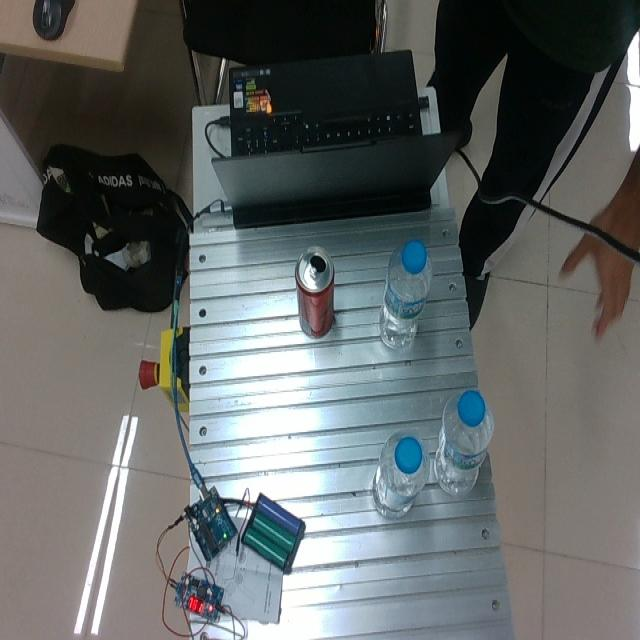coca: (294, 244, 335, 339)
lavie: (433, 391, 494, 496), (378, 238, 432, 350), (371, 430, 428, 518)
